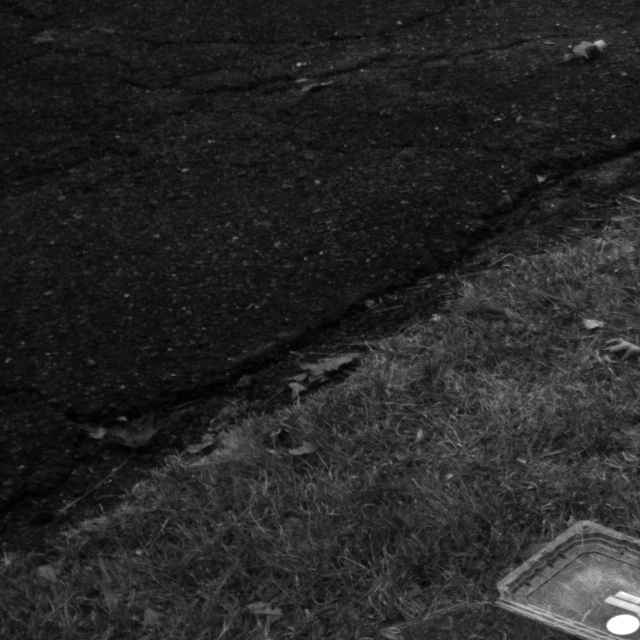container: (393, 514, 640, 640)
